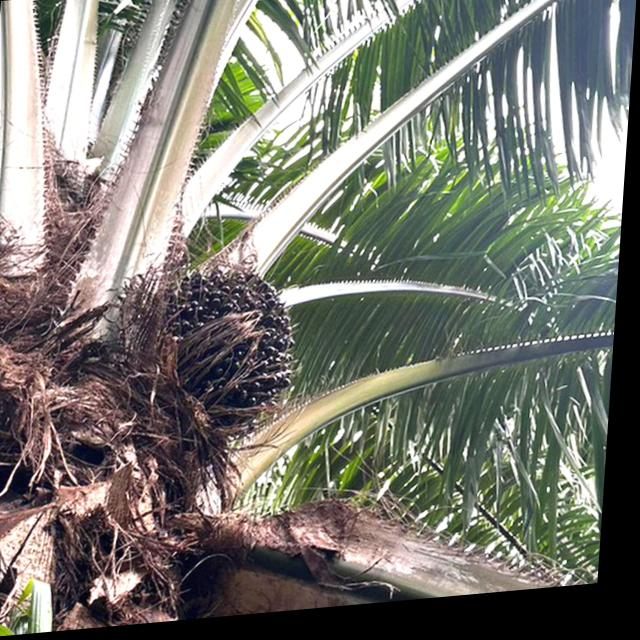unripe: (140, 246, 313, 458)
